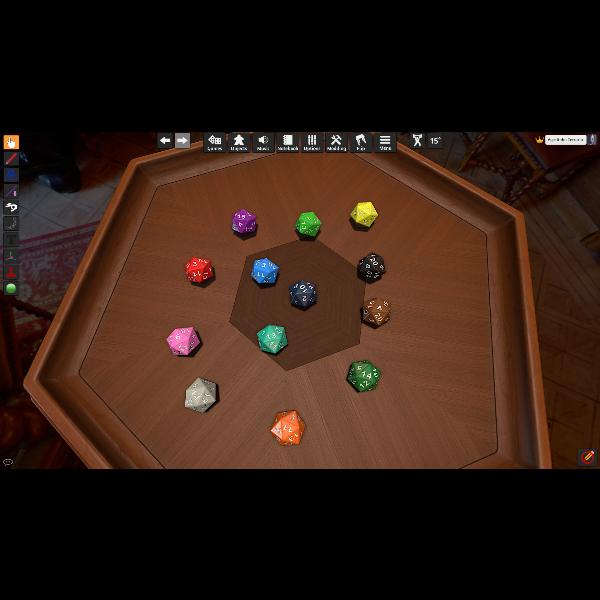d20: (270, 410, 306, 444), (185, 376, 217, 412), (167, 325, 201, 355), (347, 360, 379, 390), (256, 324, 288, 352), (361, 296, 389, 326), (184, 256, 214, 284), (288, 280, 315, 308), (251, 258, 279, 284), (358, 253, 384, 281), (294, 211, 321, 237), (351, 201, 378, 227), (231, 208, 255, 234)
